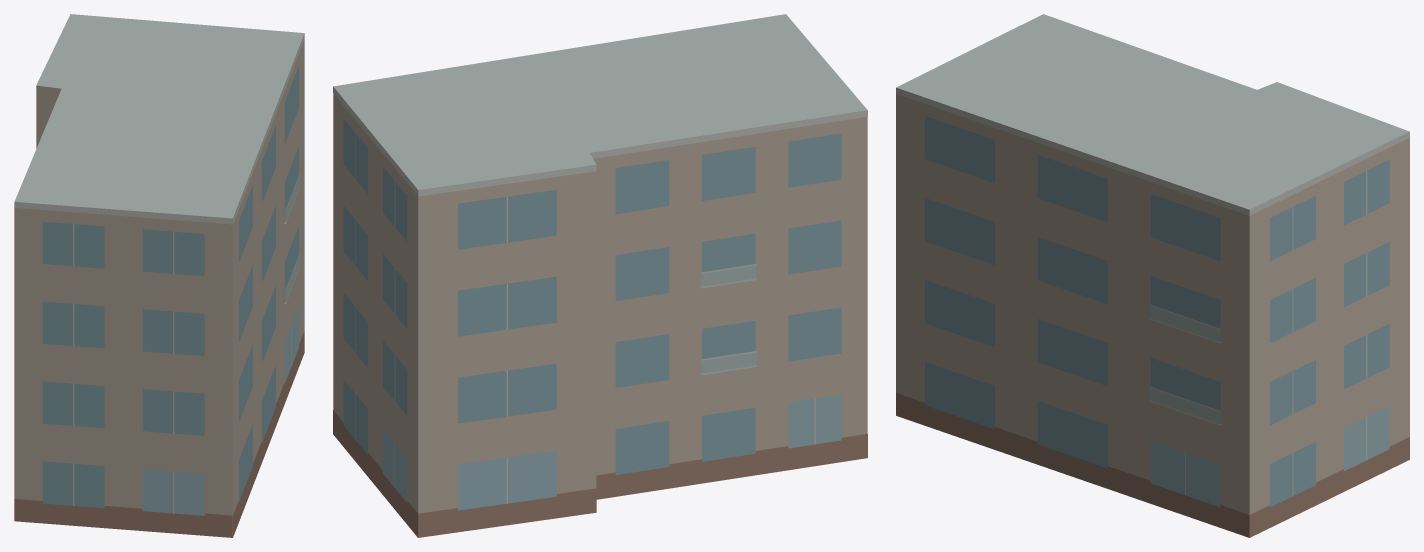
The model's file is survey-upis-32673954.glb.
3 renders of one model, left to right at view 1: azimuth 30°, elevation 25°; view 2: azimuth 150°, elevation 25°; view 3: azimuth 270°, elevation 25°, orthographic. The views are drawn at different scales.
Parts seen in each view (by area): view 1: survey-upis-32673954.tmp; view 2: survey-upis-32673954.tmp; view 3: survey-upis-32673954.tmp.
Part boxes in pixels (<box>): survey-upis-32673954.tmp: <box>14,14,304,537</box>; survey-upis-32673954.tmp: <box>333,14,867,537</box>; survey-upis-32673954.tmp: <box>896,14,1409,537</box>.
Size of the model in its own units: 16.77 by 13.1 by 18.6.
